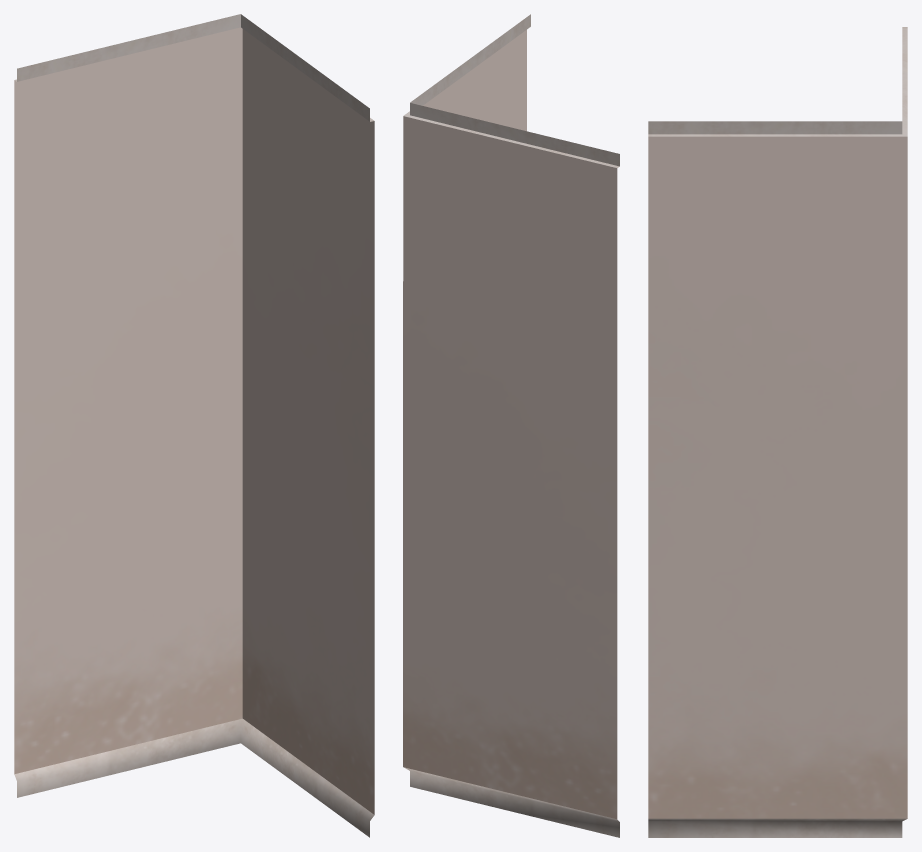
File: MT_Room_ClosedCorner.fbx
The picture shows the model from 3 angles, left to right: view 1: azimuth 30°, elevation 25°; view 2: azimuth 150°, elevation 25°; view 3: azimuth 270°, elevation 25°; orthographic projection. The views are drawn at different scales.
Parts seen in each view (by area): view 1: ClosedCorner.001; view 2: ClosedCorner.001; view 3: ClosedCorner.001.
Part boxes in pixels (x1=…): ClosedCorner.001: x1=14, y1=14, x2=374, y2=837; ClosedCorner.001: x1=403, y1=14, x2=619, y2=837; ClosedCorner.001: x1=648, y1=27, x2=907, y2=837.
Size of the model in its own units: 100 by 305 by 100.
